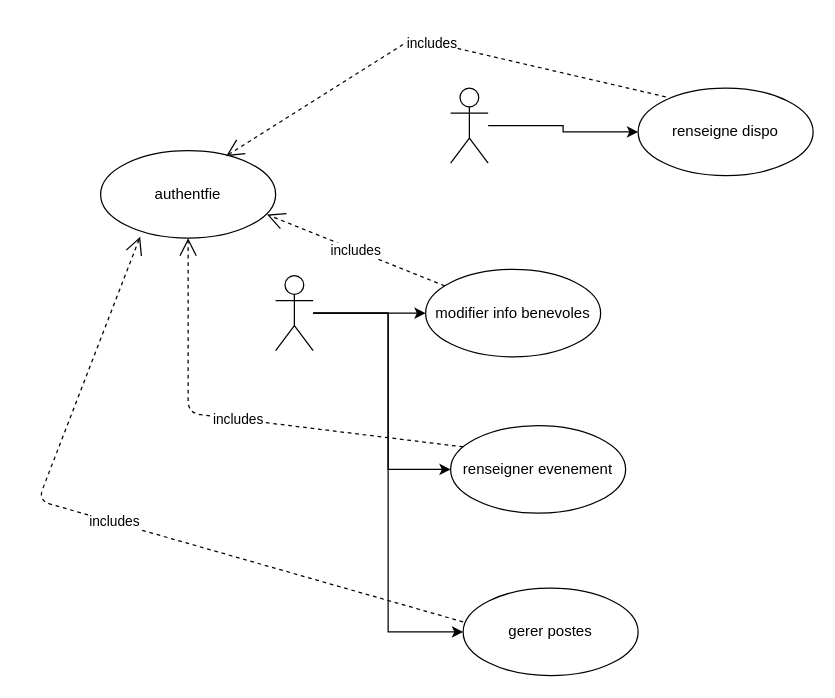
Some shapes in this 835 by 698 pixel diagram are drawn without their labels. The shapes that lost their labels are listed below. From the top down, each one's centre as x and y in pixels, then its label:
(468,125): benevole
(293,312): gestionnaire
